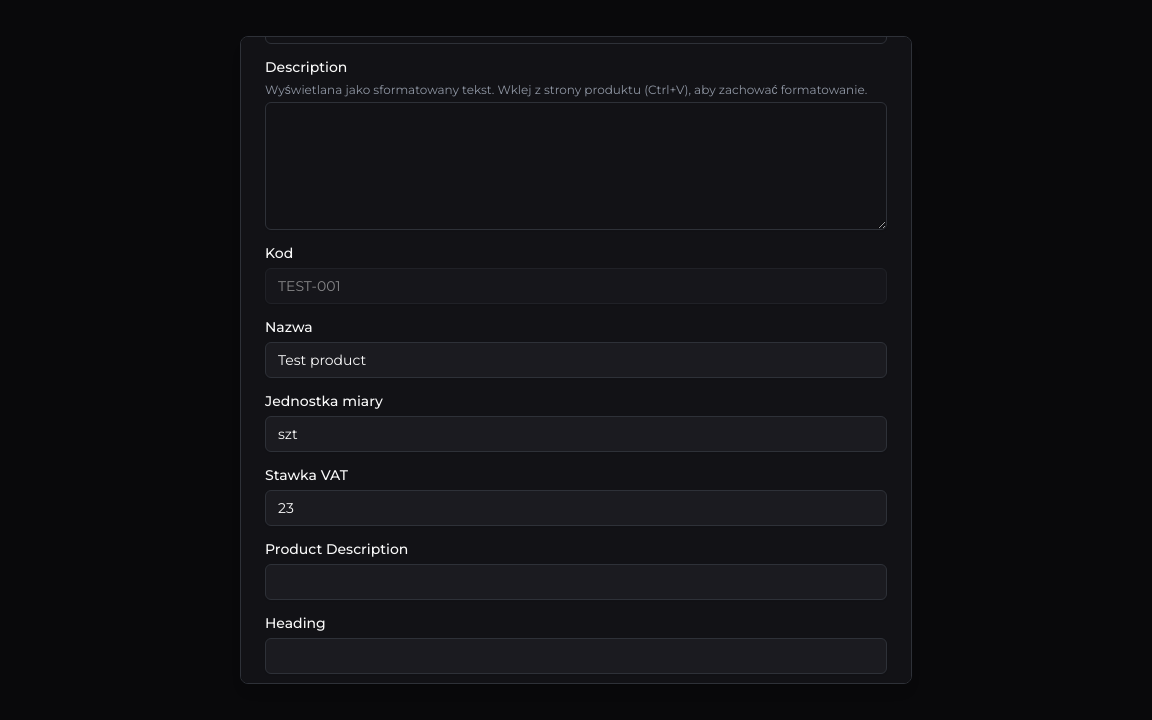
Test: EditProductModal form wiring › runs zod validation and blocks submit when Nazwa is empty
(page scrolled)
Clear the field showing "Test product" below "Nazwa" at {"x": 576, "y": 360}, box [265,342,887,378]
(page scrolled)
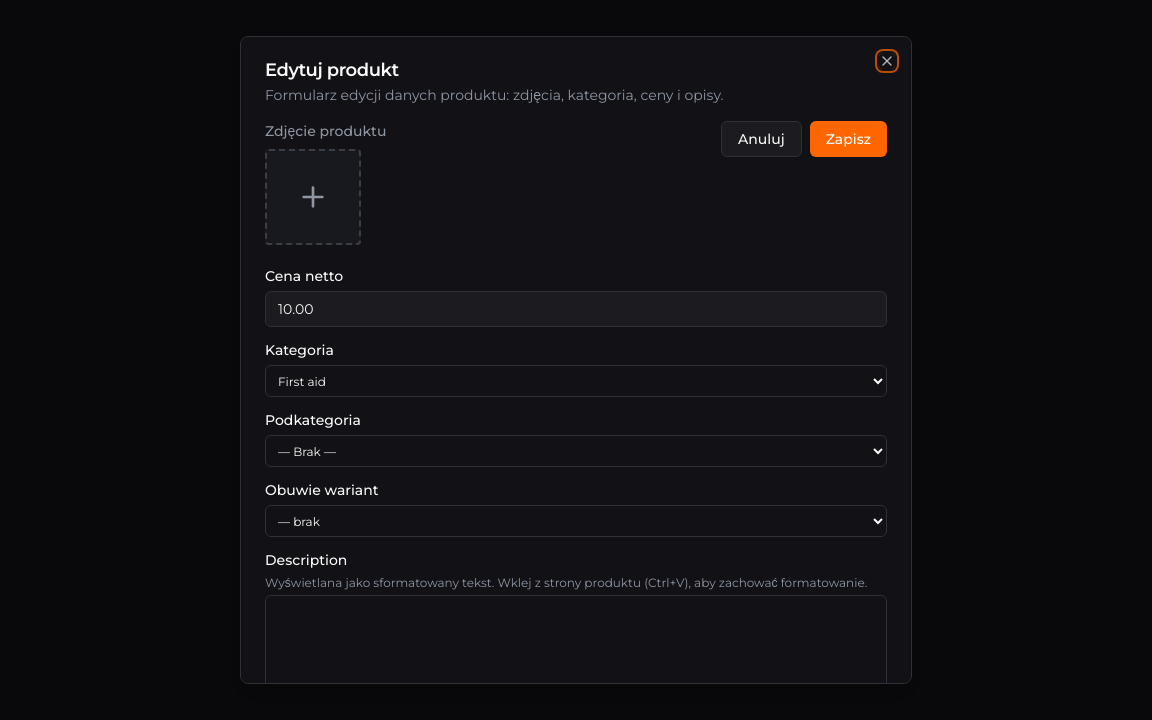
Click the button "Zapisz" at {"x": 848, "y": 139}, box [810,121,887,157]
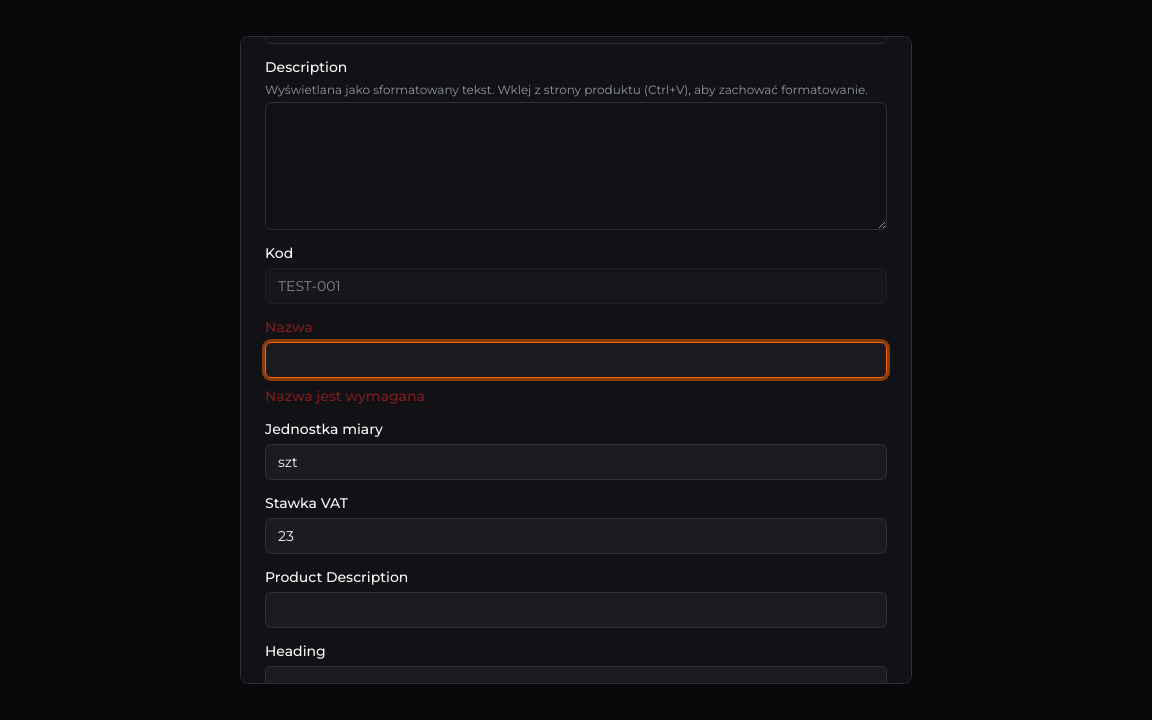
Result: the text "Nazwa jest wymagana" is shown at [265,387,425,405]
